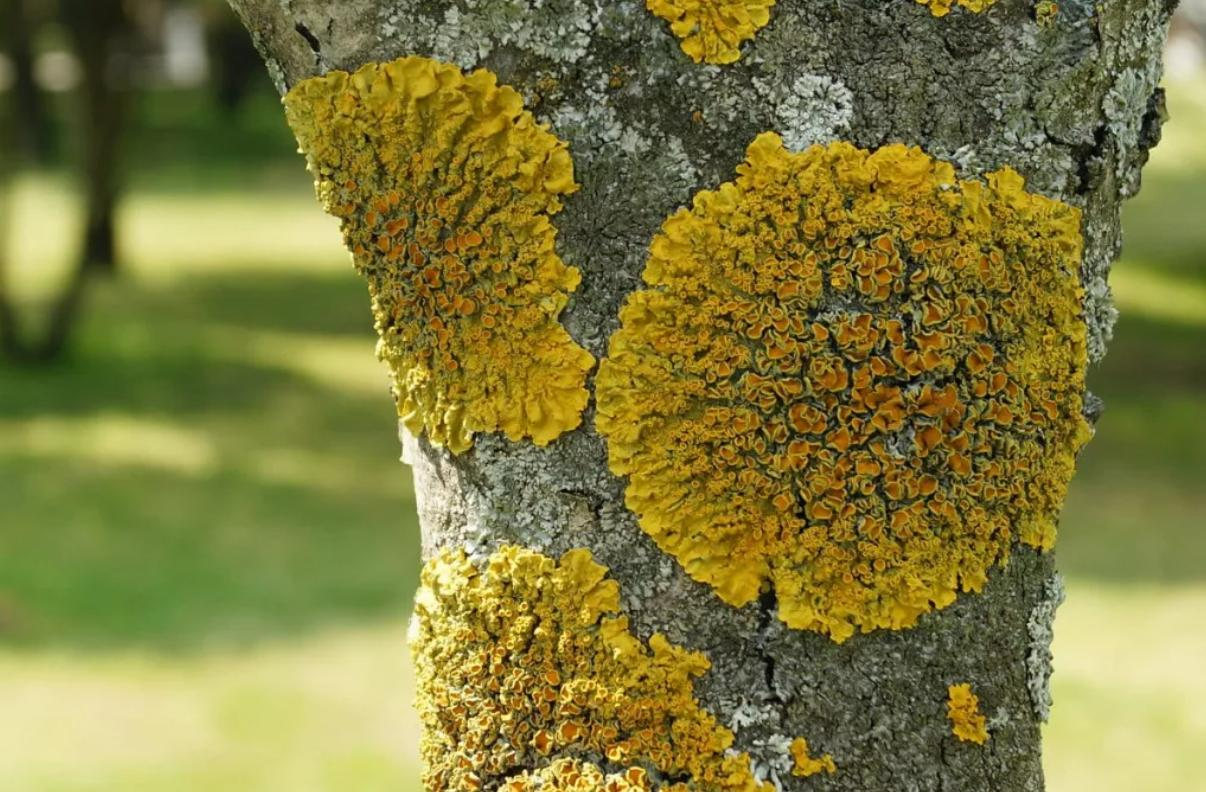lichen: (596, 133, 1087, 641), (286, 57, 592, 452), (409, 545, 761, 791), (646, 0, 774, 63), (755, 74, 852, 150), (1027, 572, 1064, 721), (1103, 67, 1157, 149), (948, 683, 987, 744), (792, 737, 835, 776)
